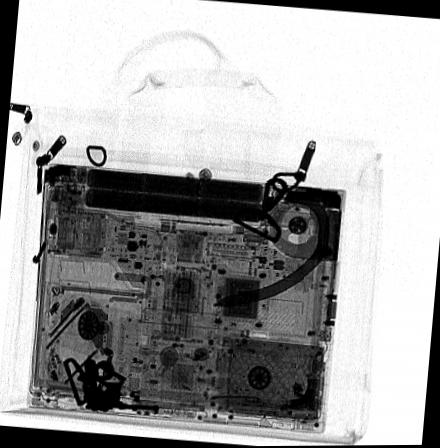Gun: (81, 359, 160, 414)
